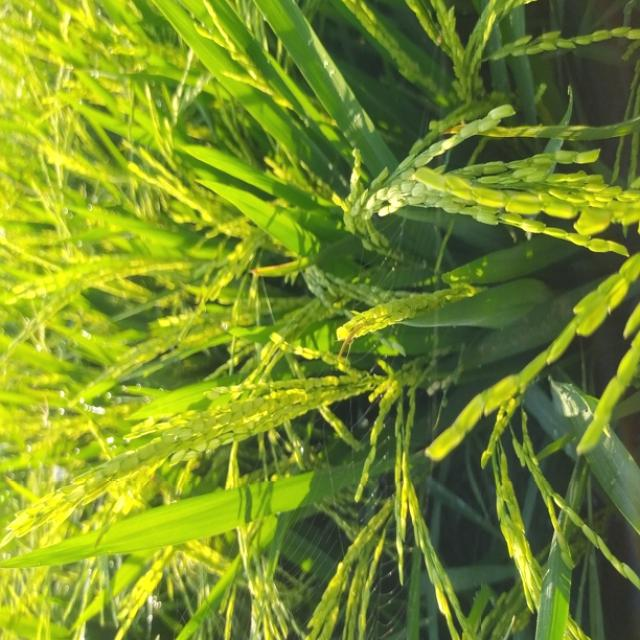Brown spot: (248, 265, 290, 282), (438, 124, 469, 140)
